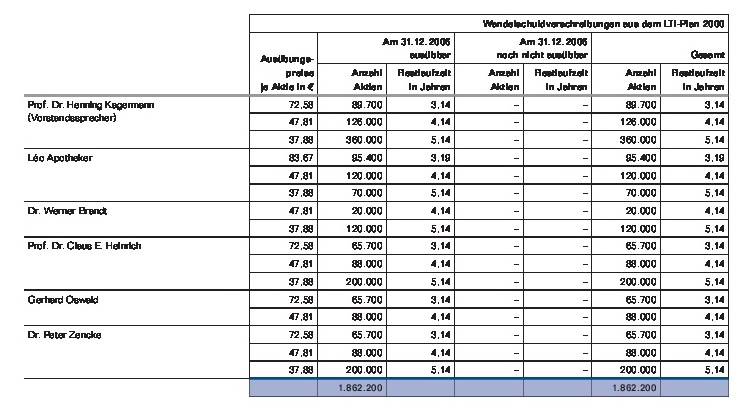table: (0, 0, 741, 413)
